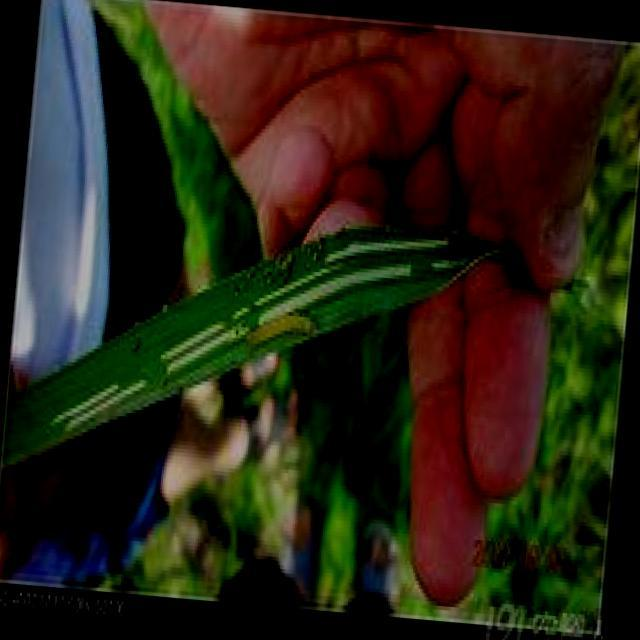leaf folder: (243, 311, 318, 358)
